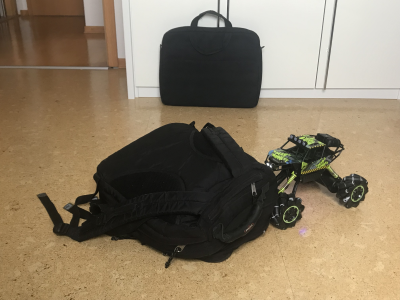remote control car: (259, 129, 371, 230)
